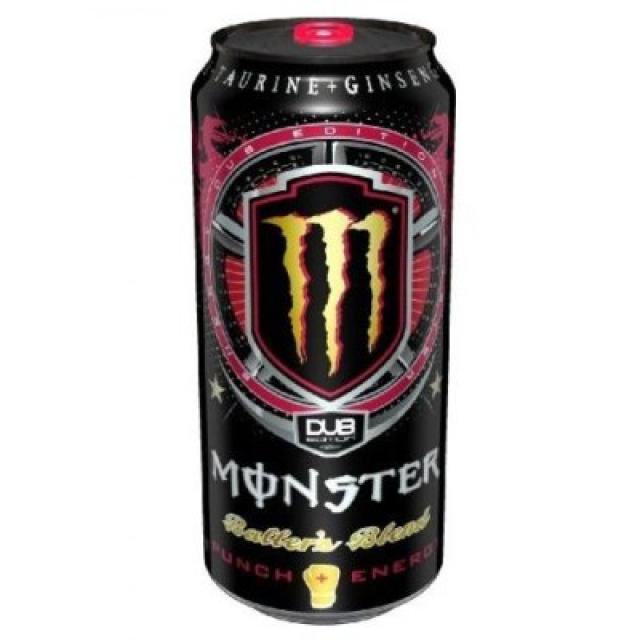Cans: (186, 11, 459, 631)
